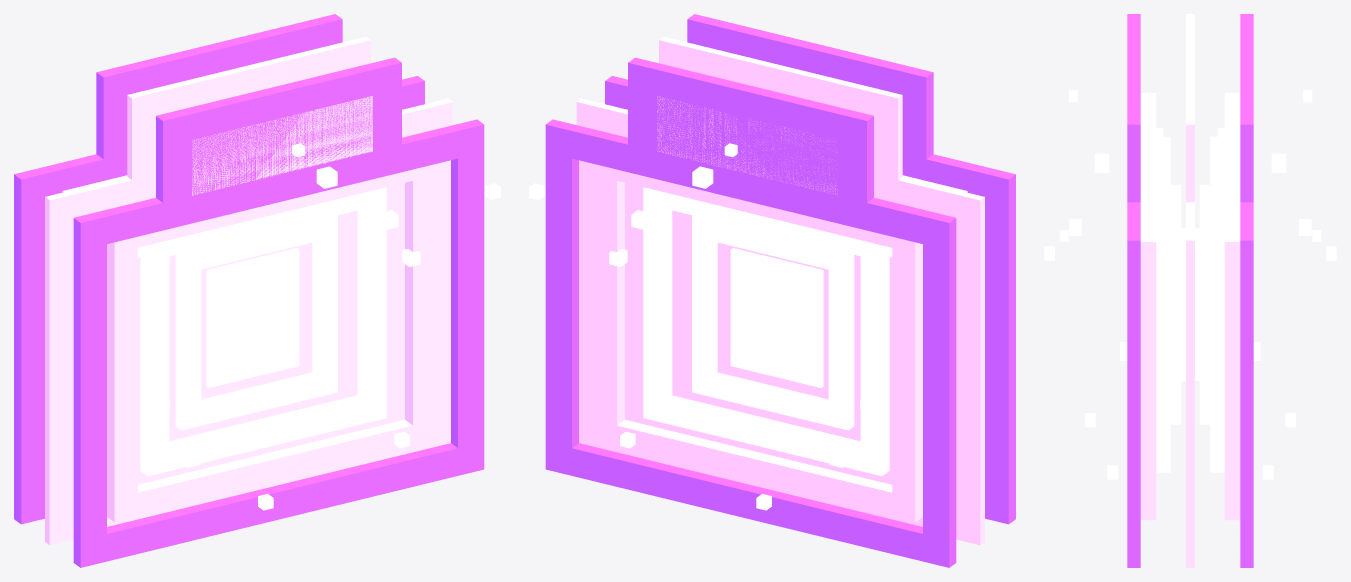
File: tt-portal-violet.glb
3 views of the same model, side by side, from view 1: azimuth 30°, elevation 25°; view 2: azimuth 150°, elevation 25°; view 3: azimuth 270°, elevation 25° (orthographic). The views are drawn at different scales.
Visible parts, largest first — view 1: box-prop; view 2: box-prop; view 3: box-prop.
Part boxes in pixels (<box>): box-prop: <box>14,14,500,567</box>; box-prop: <box>529,14,1015,567</box>; box-prop: <box>1044,14,1336,567</box>.
Bounding box in the file's own units: 4.9 × 4.95 × 3.24.
